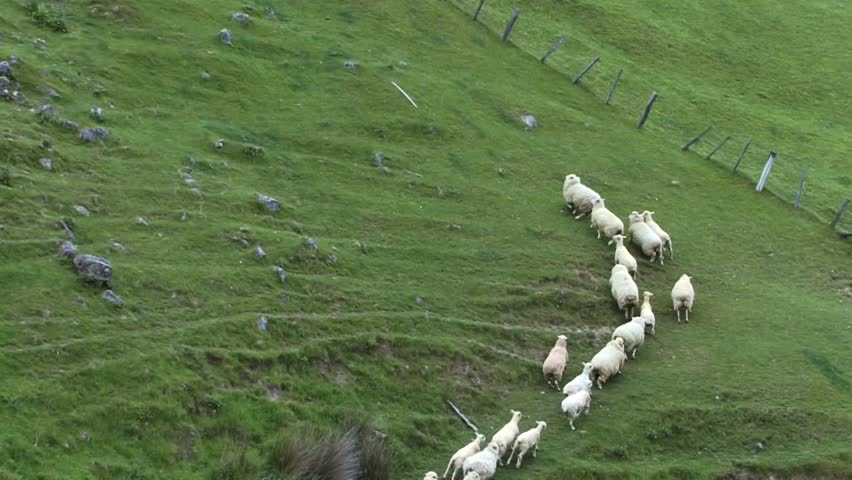sheep: (508, 418, 554, 470), (625, 208, 663, 263), (558, 376, 596, 429), (541, 332, 575, 390), (586, 195, 627, 241), (447, 430, 487, 475), (612, 313, 649, 358), (670, 272, 701, 322), (561, 173, 600, 212), (490, 409, 524, 451)
